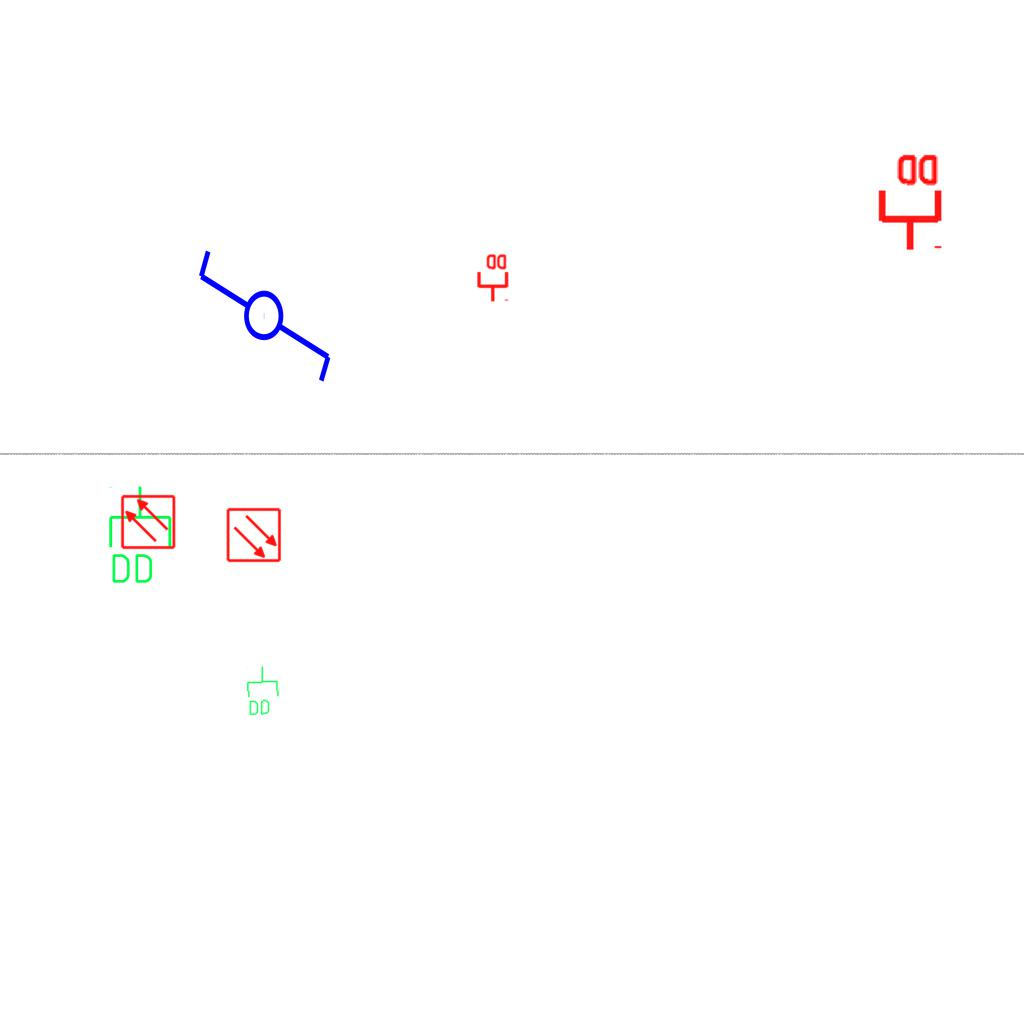Datenanschluss_zweifach: (105, 484, 174, 587), (874, 150, 943, 253), (244, 664, 281, 718), (475, 252, 509, 303)
RMO_Rauchmelder_optischer: (226, 507, 282, 563), (120, 494, 176, 550)
Wechselschalter: (194, 229, 338, 386)
